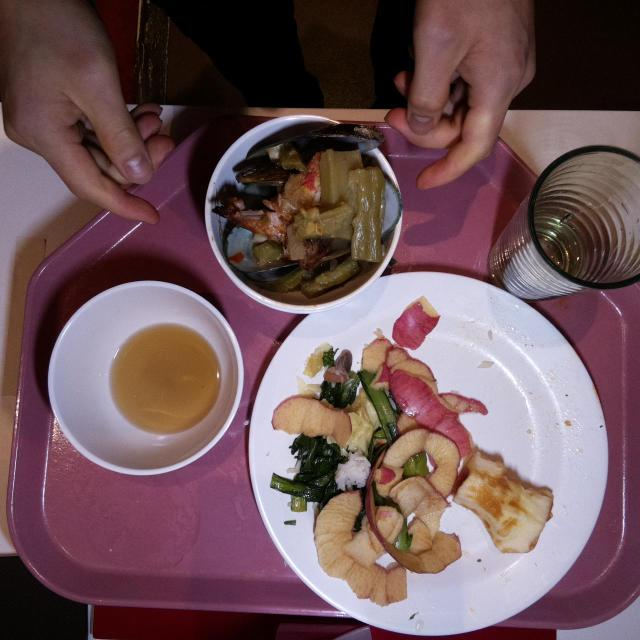Apple-core: (448, 445, 554, 554)
Apple-peel: (393, 347, 475, 455), (315, 492, 389, 602), (379, 426, 468, 494), (379, 514, 463, 572), (272, 398, 360, 438), (390, 295, 440, 349), (360, 336, 394, 388)
Mussel-shell: (223, 122, 405, 278)
Vegetable: (299, 150, 383, 264), (356, 370, 429, 478), (271, 436, 339, 502)
